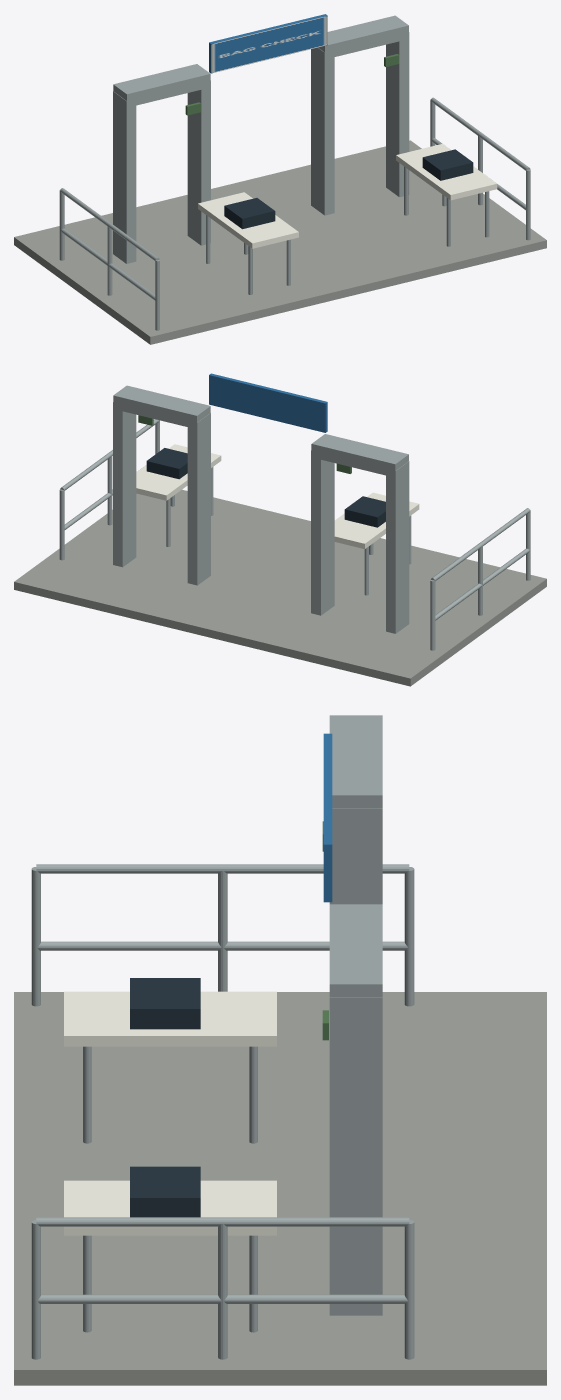
Rendered from scendance-plan-security-checkpoint-dual.glb.
3 renders of one model, top to bottom at view 1: azimuth 30°, elevation 25°; view 2: azimuth 150°, elevation 25°; view 3: azimuth 270°, elevation 25°, orthographic. The views are drawn at different scales.
Bounding box in the file's own units: 5.2 × 2.62 × 3.1.
Materials: 7 (1 with a texture image).
